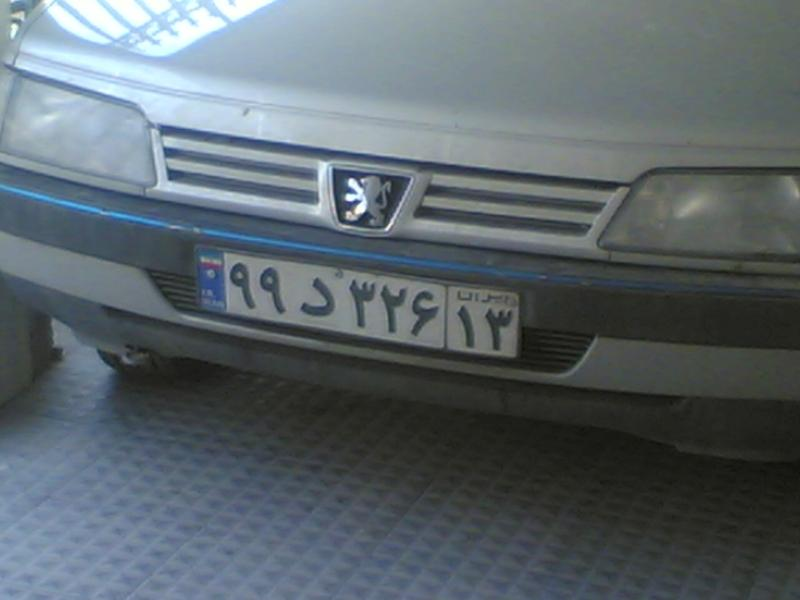Plate: (196, 243, 522, 358)
